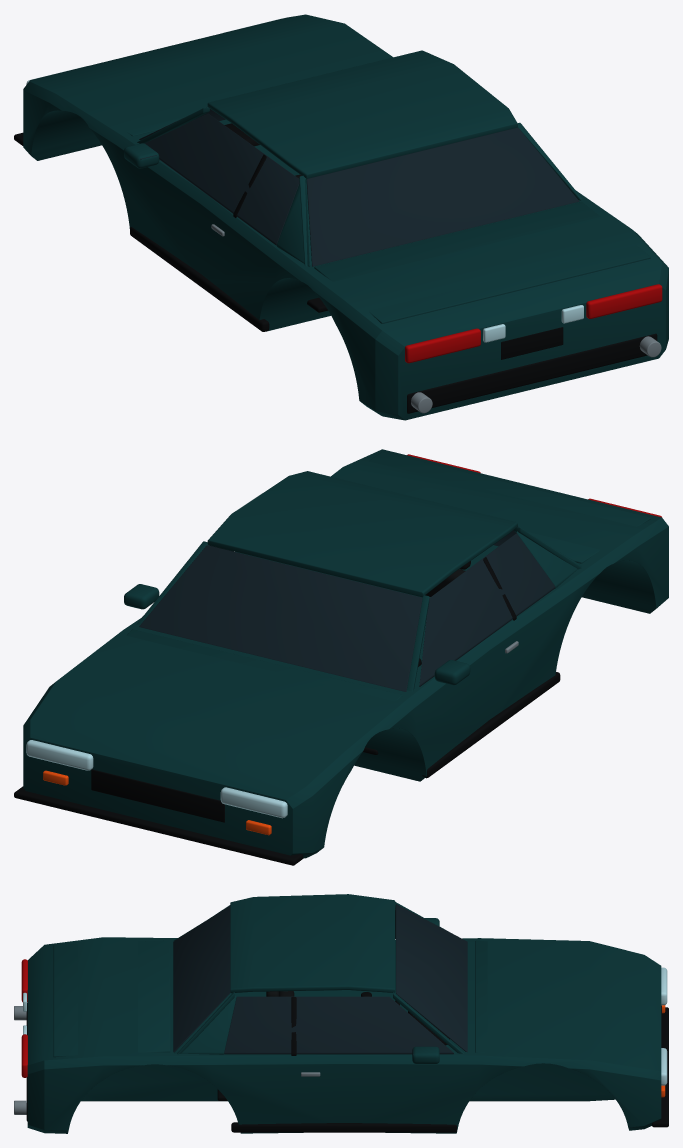
File: Cedar_Coupe_Body.obj
3 renders of one model, top to bottom at view 1: azimuth 30°, elevation 25°; view 2: azimuth 150°, elevation 25°; view 3: azimuth 270°, elevation 25°, orthographic. The views are drawn at different scales.
Parts seen in each view (by area): view 1: BodyShell, RoofPanel, RearGlass, TrunkPanel, SideGlass_L, RearValance, Sill_L, BrakeLight_R, BrakeLight_L, RearQuarter_L, RearPlateRecess, Mirror_L; view 2: BodyShell, Windshield, RoofPanel, SideGlass_L, TrunkPanel, FrontSplitter, FrontGrille, HoodPanel, Sill_L, Headlight_L, Headlight_R, RearQuarter_L (+3 smaller); view 3: BodyShell, RoofPanel, SideGlass_R, Windshield, TrunkPanel, RearGlass, Sill_R, RearQuarter_R, HoodPanel, FrontSplitter, APillar_R, Mirror_R (+1 smaller).
Part boxes in pixels (left/top/right/bottom): BodyShell: left=23, top=14, right=668, bottom=420; RoofPanel: left=207, top=50, right=517, bottom=178; RearGlass: left=306, top=127, right=579, bottom=266; TrunkPanel: left=314, top=201, right=650, bottom=323; SideGlass_L: left=145, top=113, right=299, bottom=245; RearValance: left=407, top=333, right=657, bottom=413; Sill_L: left=130, top=227, right=269, bottom=331; BrakeLight_R: left=586, top=284, right=662, bottom=318; BrakeLight_L: left=405, top=328, right=480, bottom=363; RearQuarter_L: left=277, top=179, right=309, bottom=266; RearPlateRecess: left=501, top=327, right=563, bottom=359; Mirror_L: left=124, top=143, right=159, bottom=168; BodyShell: left=23, top=449, right=668, bottom=858; Windshield: left=139, top=545, right=422, bottom=691; RoofPanel: left=207, top=471, right=517, bottom=597; SideGlass_L: left=419, top=533, right=555, bottom=686; TrunkPanel: left=369, top=452, right=650, bottom=563; FrontSplitter: left=14, top=786, right=303, bottom=865; FrontGrille: left=91, top=769, right=224, bottom=822; HoodPanel: left=126, top=629, right=402, bottom=700; Sill_L: left=422, top=672, right=560, bottom=778; Headlight_L: left=220, top=787, right=287, bottom=818; Headlight_R: left=26, top=740, right=93, bottom=770; RearQuarter_L: left=517, top=531, right=581, bottom=588; BodyShell: left=27, top=937, right=661, bottom=1133; RoofPanel: left=230, top=894, right=395, bottom=993; SideGlass_R: left=224, top=996, right=453, bottom=1054; Windshield: left=396, top=904, right=467, bottom=1052; TrunkPanel: left=53, top=940, right=170, bottom=1057; RearGlass: left=173, top=906, right=230, bottom=1052; Sill_R: left=231, top=1122, right=457, bottom=1132; RearQuarter_R: left=174, top=993, right=236, bottom=1054; HoodPanel: left=475, top=940, right=487, bottom=1052; FrontSplitter: left=652, top=1007, right=668, bottom=1127; APillar_R: left=393, top=992, right=463, bottom=1053; Mirror_R: left=412, top=1046, right=439, bottom=1063.
Size of the model in its own units: 7.72 by 3.54 by 15.5.
